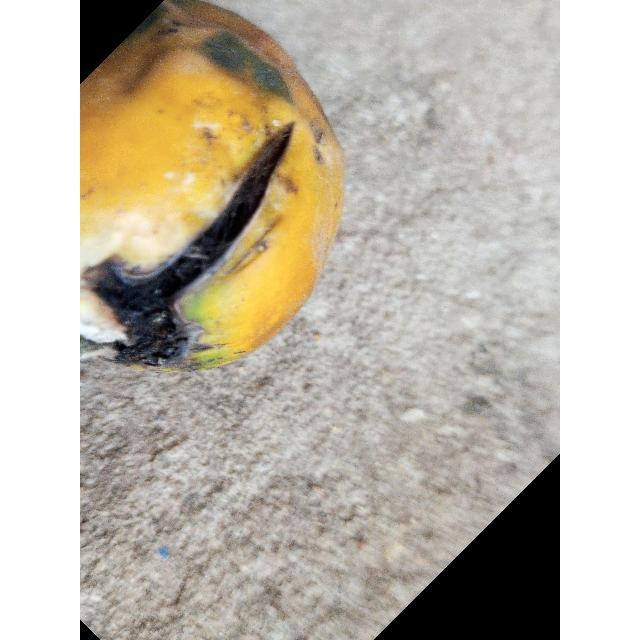damaged: (80, 0, 344, 372)
